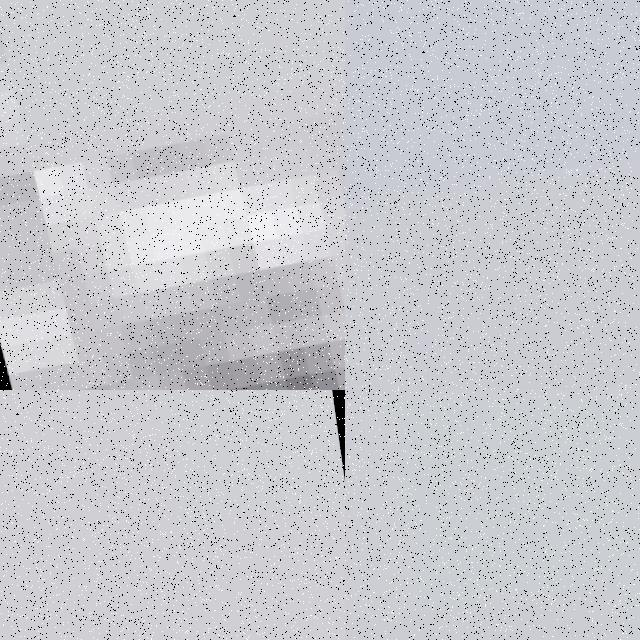drone: (0, 0, 345, 390)
